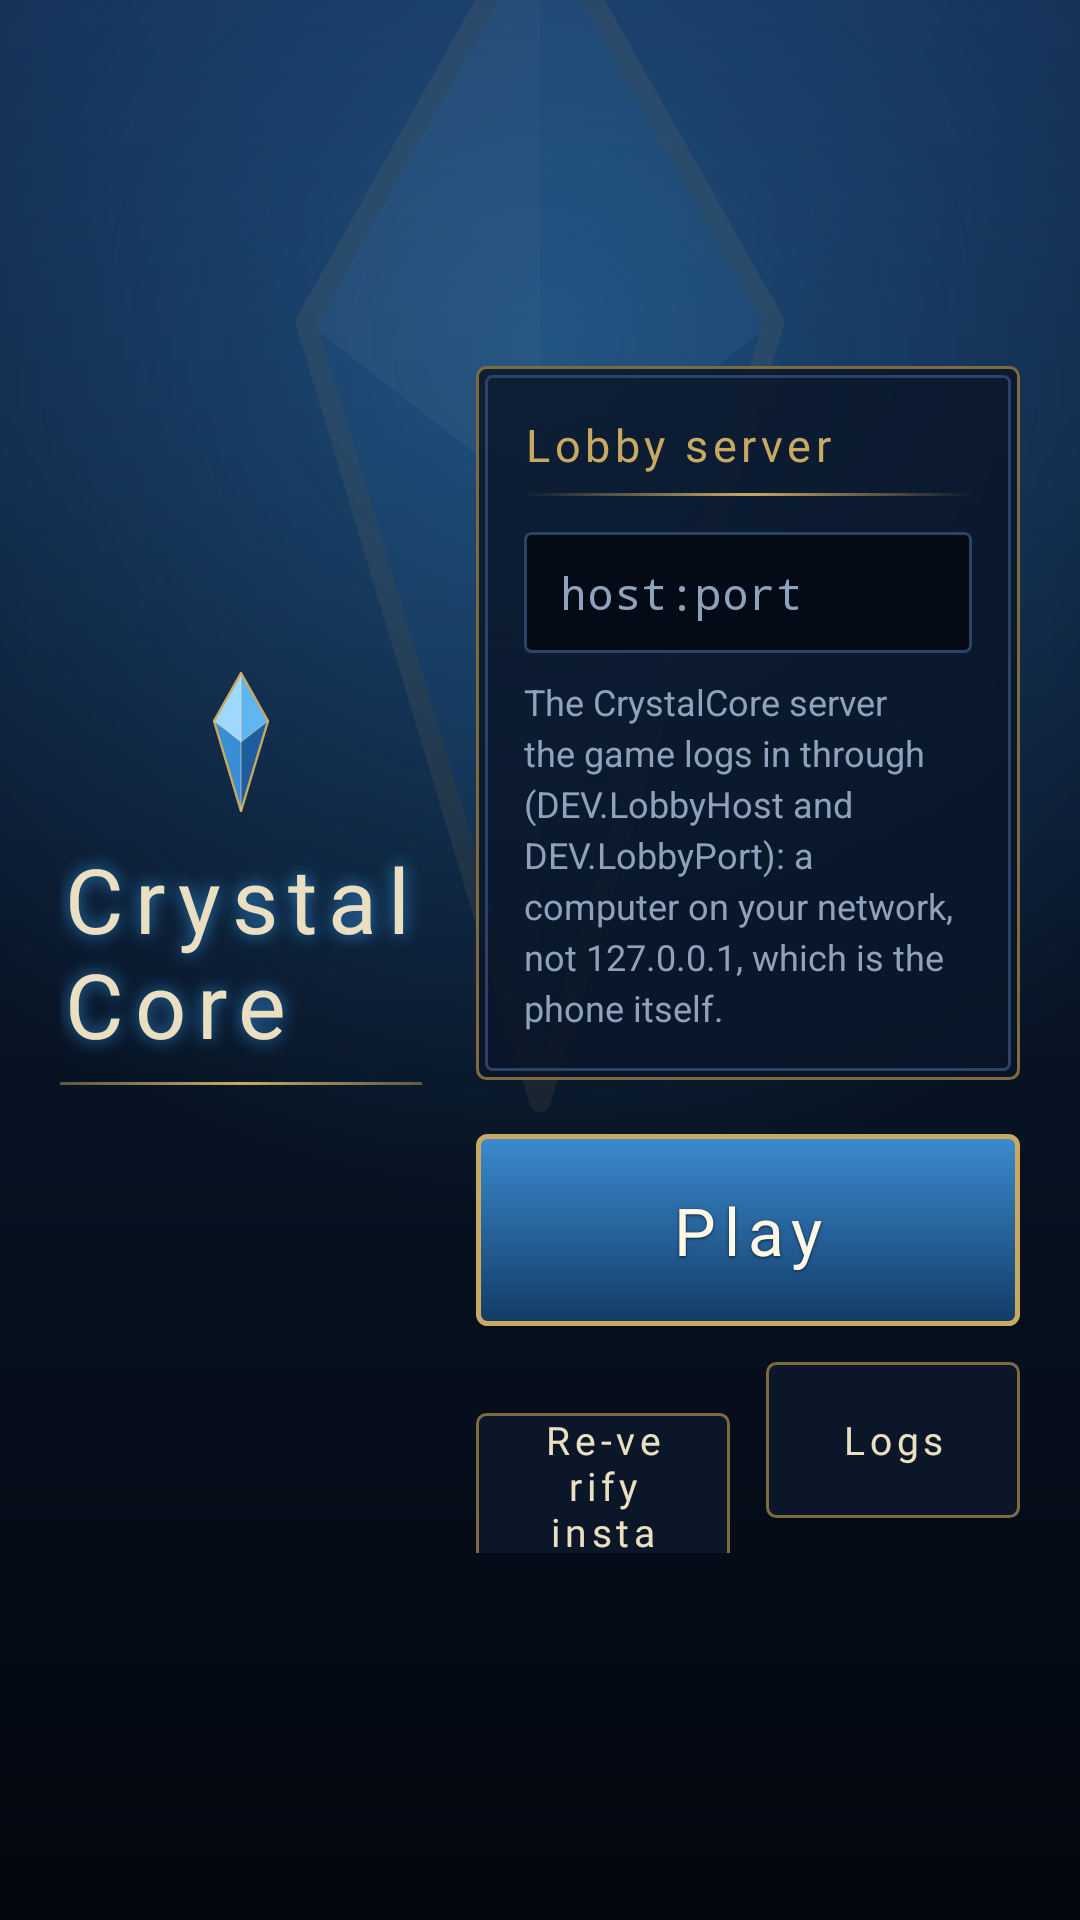

Screen size 1080*1920. Icon name, then its center in pixels as (x,y):
crystal mark: (241,742)
